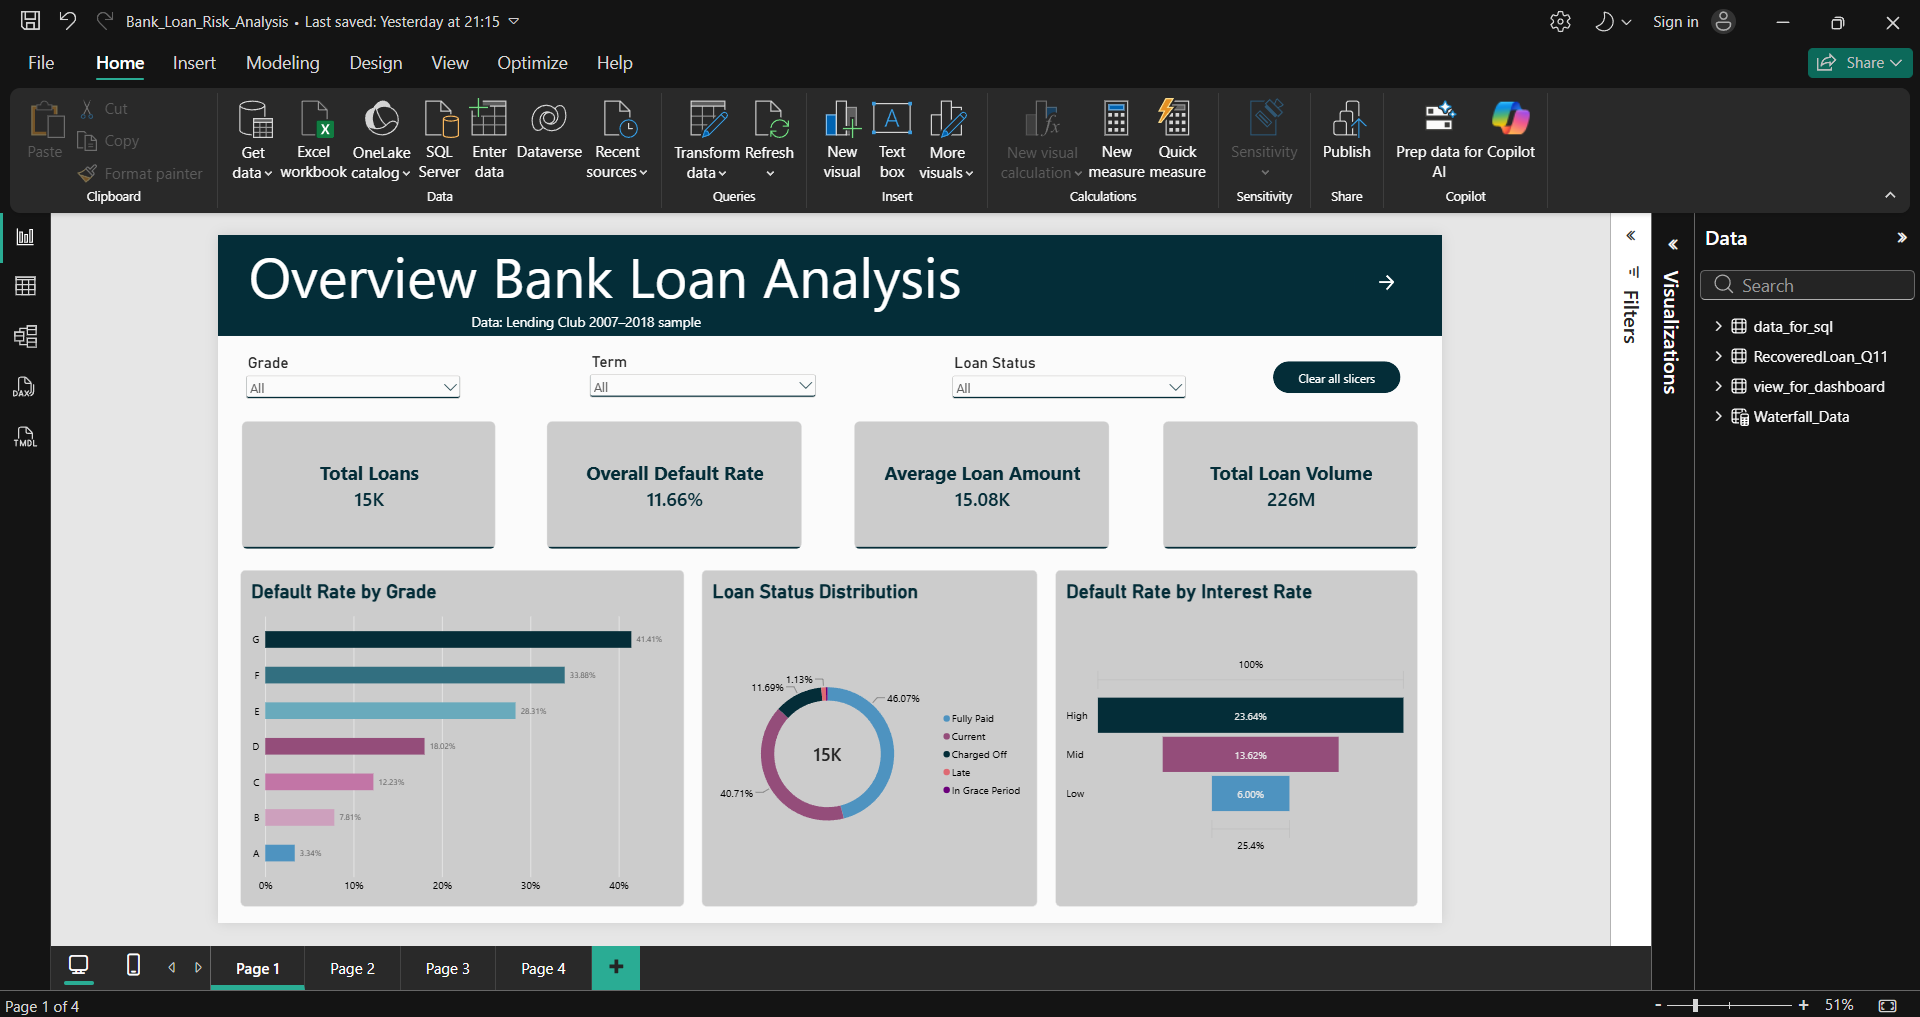

The dashboard page shown, as its layout file describes it:
{"tool":"powerbi","page":{"name":"Page 1","canvas":[1920,1080],"ordinal":0},"visuals":[{"type":"textbox","box":[0,0,1919.6,158.3],"z":0},{"type":"cardVisual","fields":{"Data":["CountNonNull(view_for_dashboard.Loan_ID)"]},"box":[36.8,292.6,398,200],"z":1000},{"type":"cardVisual","fields":{"Data":["Sum(view_for_dashboard.Loan_Amount)"]},"box":[1482,292,400,200],"z":2000},{"type":"cardVisual","fields":{"Data":["Avg(view_for_dashboard.Loan_Amount)"]},"box":[998,292,400,200],"z":3000},{"type":"cardVisual","fields":{"Data":["view_for_dashboard.Default Rate %"]},"box":[516,292,400,200],"z":4000},{"type":"clusteredBarChart","title":"Default Rate by Grade","fields":{"Category":["view_for_dashboard.Grade"],"Y":["view_for_dashboard.Default Rate %"]},"box":[36,526,696,528],"z":5000},{"type":"donutChart","title":"Loan Status Distribution","fields":{"Category":["view_for_dashboard.Loan_Status_Grouped"],"Y":["CountNonNull(view_for_dashboard.Loan_Status_Grouped)"]},"box":[758,526,526,528],"z":6000},{"type":"funnel","title":"Default Rate by Interest Rate","fields":{"Category":["view_for_dashboard.Interest_Rate_Bucket_Clean"],"Y":["view_for_dashboard.Default Rate %"]},"box":[1314,526,568,528],"z":7000},{"type":"slicer","fields":{"Values":["view_for_dashboard.Grade"]},"box":[38.7,185.9,346,74],"z":8000},{"type":"slicer","fields":{"Values":["view_for_dashboard.Term"]},"box":[577.9,184.1,364,74],"z":9000},{"type":"slicer","fields":{"Values":["view_for_dashboard.Loan_Status_Grouped"]},"box":[1146.6,185.9,376,74],"z":10000},{"type":"actionButton","box":[1654,198,200,50],"z":11000},{"type":"actionButton","box":[1782,54,100,40],"z":12000}]}

Visuals, with their boxes on the page's 1920x1080 design canvas (x1, y1, x2, y2). These are canvas units, not pixel positions in the 1920x1017 screenshot, which may show the page scaled, cropped or inside an application window:
textbox: x1=0 y1=0 x2=1920 y2=158
cardVisual - CountNonNull(view_for_dashboard.Loan_ID): x1=37 y1=293 x2=435 y2=493
cardVisual - Sum(view_for_dashboard.Loan_Amount): x1=1482 y1=292 x2=1882 y2=492
cardVisual - Avg(view_for_dashboard.Loan_Amount): x1=998 y1=292 x2=1398 y2=492
cardVisual - view_for_dashboard.Default Rate %: x1=516 y1=292 x2=916 y2=492
"Default Rate by Grade" clusteredBarChart: x1=36 y1=526 x2=732 y2=1054
"Loan Status Distribution" donutChart: x1=758 y1=526 x2=1284 y2=1054
"Default Rate by Interest Rate" funnel: x1=1314 y1=526 x2=1882 y2=1054
slicer - view_for_dashboard.Grade: x1=39 y1=186 x2=385 y2=260
slicer - view_for_dashboard.Term: x1=578 y1=184 x2=942 y2=258
slicer - view_for_dashboard.Loan_Status_Grouped: x1=1147 y1=186 x2=1523 y2=260
actionButton: x1=1654 y1=198 x2=1854 y2=248
actionButton: x1=1782 y1=54 x2=1882 y2=94
